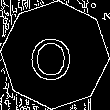O_N: (31, 28, 79, 82)
